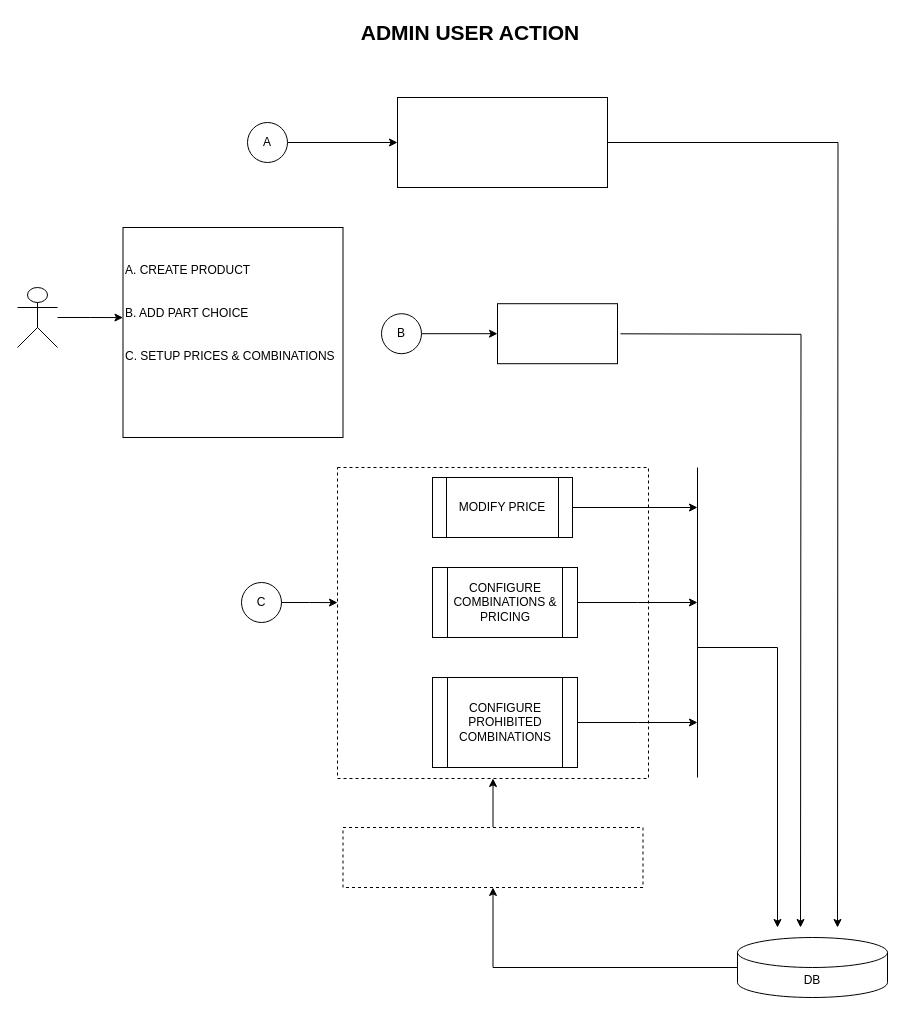
This 905x1015 diagram has some shape labels left out. Here are the shapes that lost their labels. From the top down, the centre of each, then its label:
At [502,142]: "1. SPECIFY PRODUCT CATEGORY 2. SPECIFY PRODUCT DETAILS 3. DEFAULT PART OPTIONS".
At [37,317]: "Actor".
At [557,333]: "ADD NEW PART OPTION CHOICE".
At [492,857]: "RETRIEVE PART OPTIONS".
